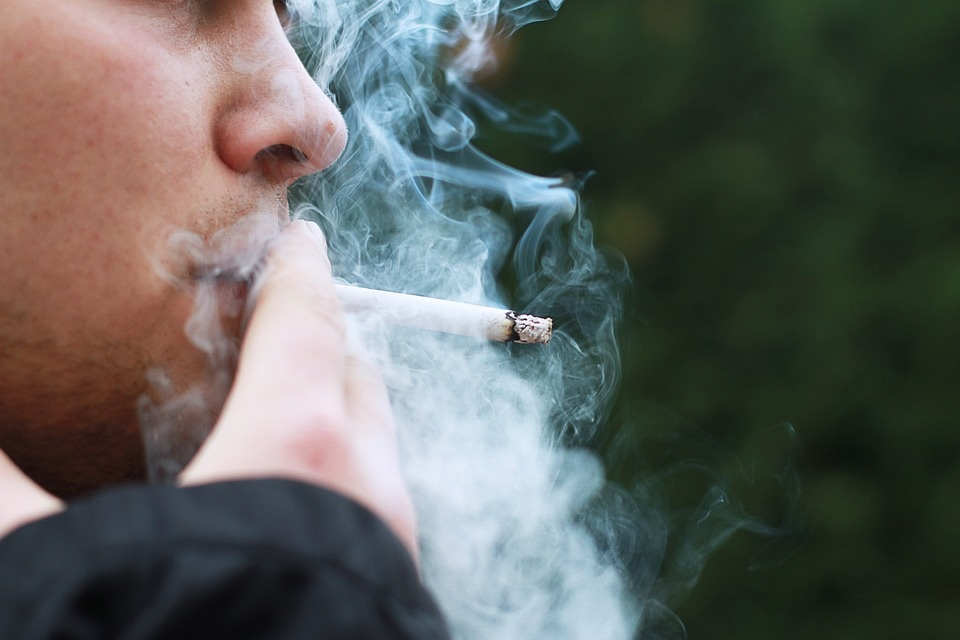sigaretta: (294, 275, 562, 347)
